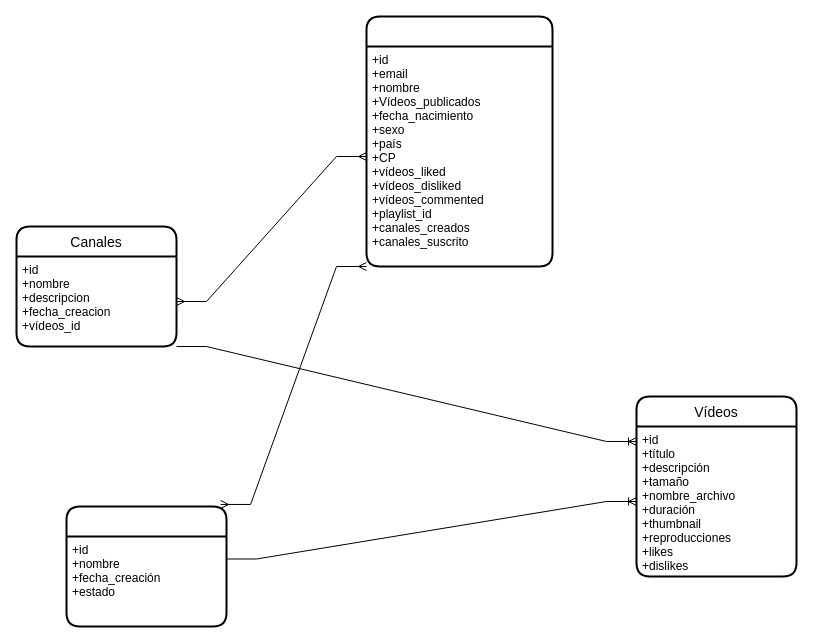
The diagram is 813 pixels wide and 643 high, and some of its shapes have lost their labels. The shapes that lost their labels are listed below. From the top down, each one's box as (x1, y1, x2, y2) in pixels, then its label:
(365, 15, 553, 267): Usuarios
(65, 505, 227, 627): Playlists
